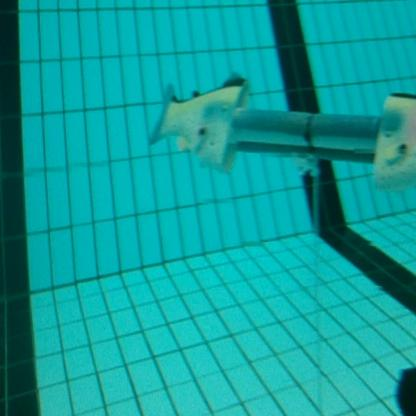rubberfish: (147, 73, 251, 177)
